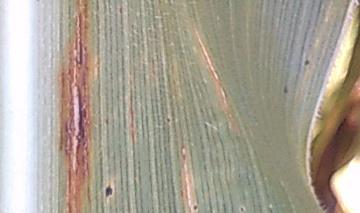tarspot: (103, 182, 114, 198), (282, 83, 289, 95), (117, 5, 124, 16), (303, 57, 310, 66), (192, 203, 199, 212), (238, 206, 246, 213), (103, 118, 109, 127), (164, 117, 171, 124), (182, 27, 188, 35), (129, 22, 135, 29), (268, 207, 274, 213), (34, 1, 42, 3)
